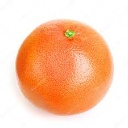orange: (15, 19, 116, 115)
